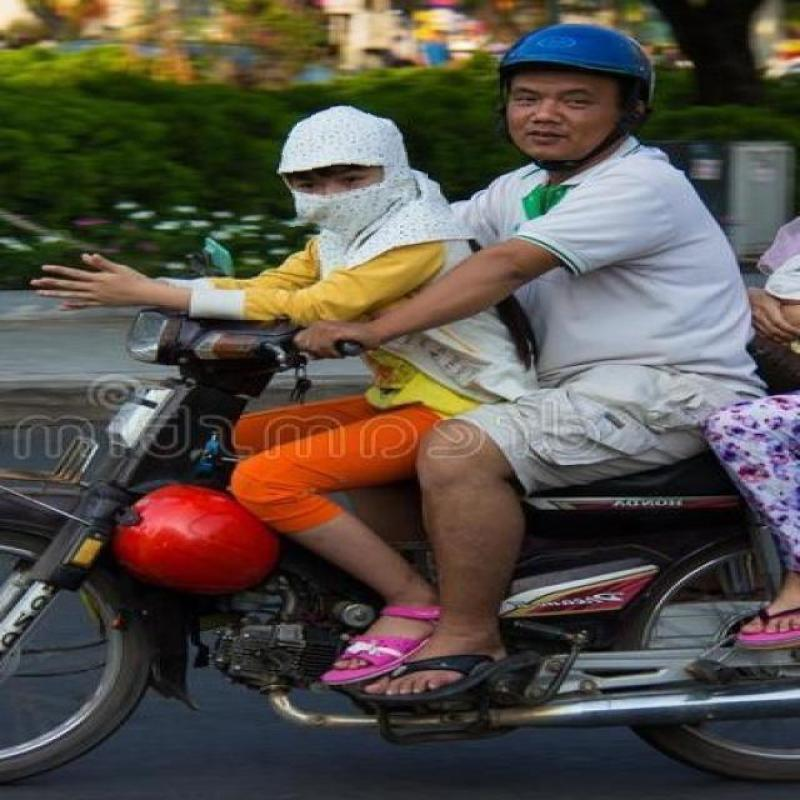nohelmet: (272, 100, 429, 226)
